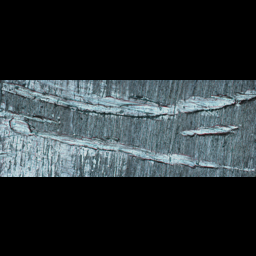d: (0, 102, 254, 175), (0, 79, 255, 119), (177, 121, 240, 139)
